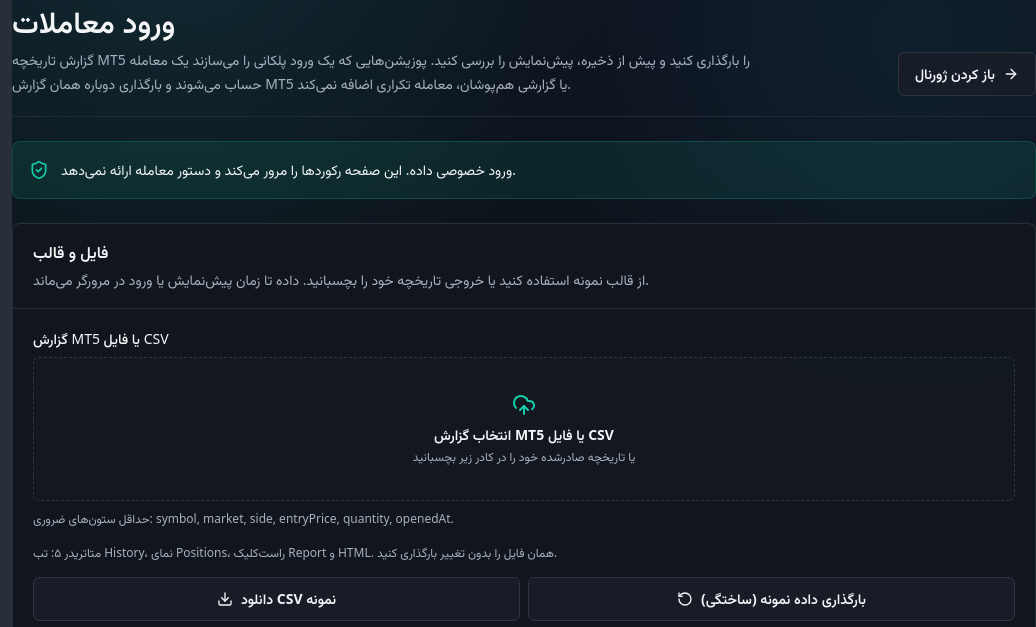
the import page in Persian › shows a Persian line when the import fails, never the server's text
The image size is (1036, 627).
Click the button "بارگذاری داده نمونه (ساختگی)": [772, 599] box [528, 577, 1015, 621]
(page scrolled)
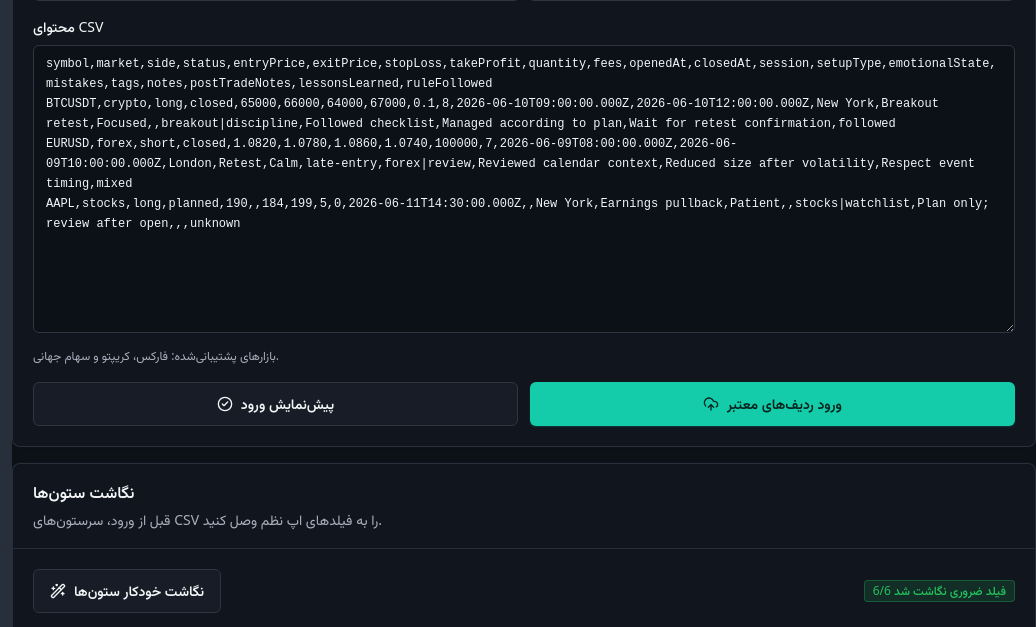
Click the button "ورود ردیف‌های معتبر": [772, 404] box [530, 382, 1015, 426]
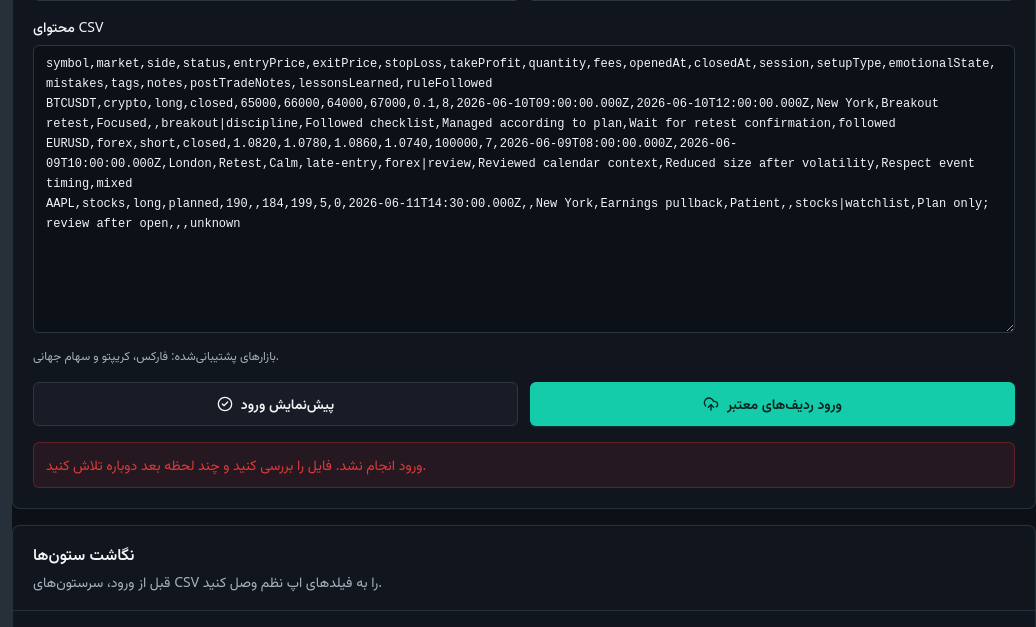
Check: the message reads "ورود انجام نشد. فایل را بررسی کنید و چند لحظه بعد دوباره تلاش کنید.", box [46, 455, 426, 474]
